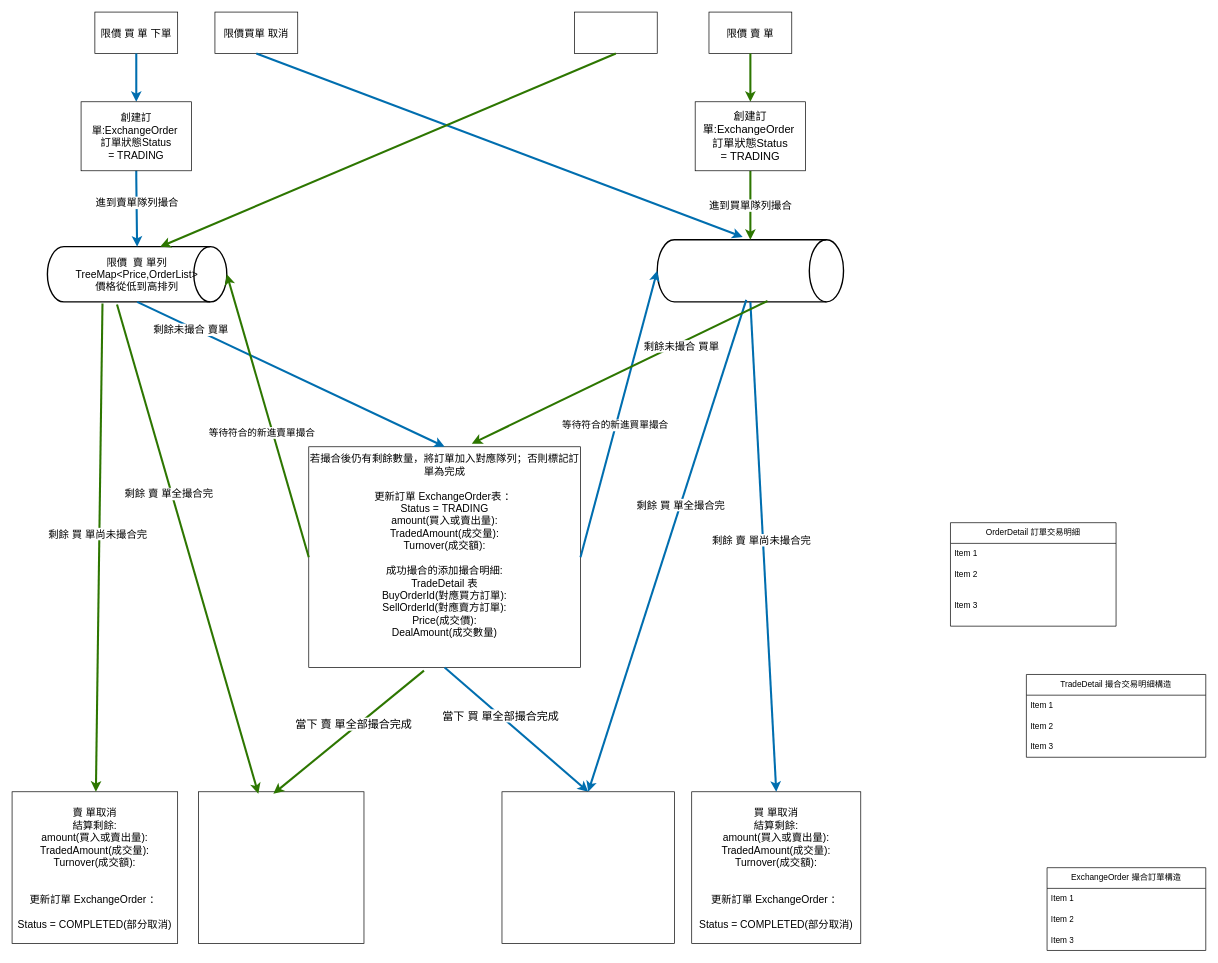
Image size: 1218x963. Some labels were removed from this diagram. Here are the shapes that lost their labels. From the top down, the centre of each, then its label:
the point at 615,32: 限價買賣 取消
the point at 750,270: 限價 買 單列 TreeMap<Price,OrderList> 價格從高到低排列
the point at 281,867: 賣 單全部撮合完成 所有 amount(買入或賣出量) 接消耗完畢 更新訂單 ExchangeOrder ： Status = COMPLETED(全部成交)
the point at 587,867: 買 單全部撮合完成 所有 amount(買入或賣出量) 接消耗完畢 更新訂單 ExchangeOrder ： Status = COMPLETED(全部成交)
